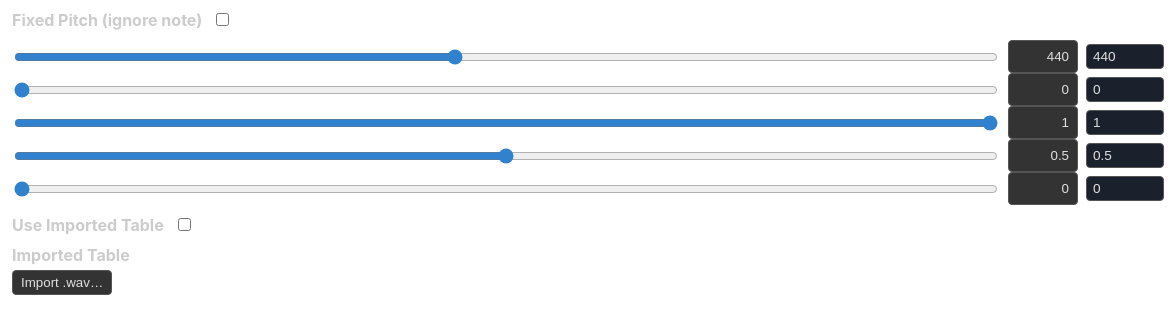
Scenario: Wavetable Import — failure paths › surfaces a read error from the main process without touching node data
This screenshot has width=1176, height=331.
Click the button with test id "wavetable-import" at x=62, y=282, box [12,270,112,295]
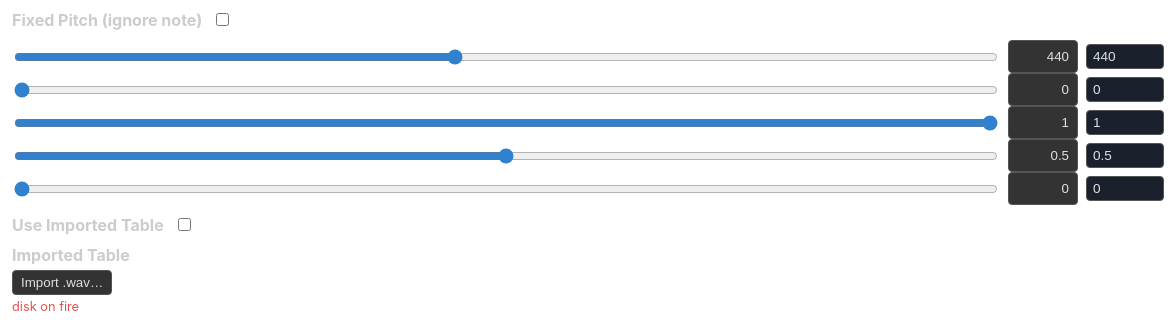
Result: the text with test id "wavetable-import-error" reads "disk on fire" at [12,299,79,314]
